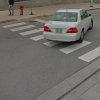Crosswalk: (7, 19, 85, 62)
